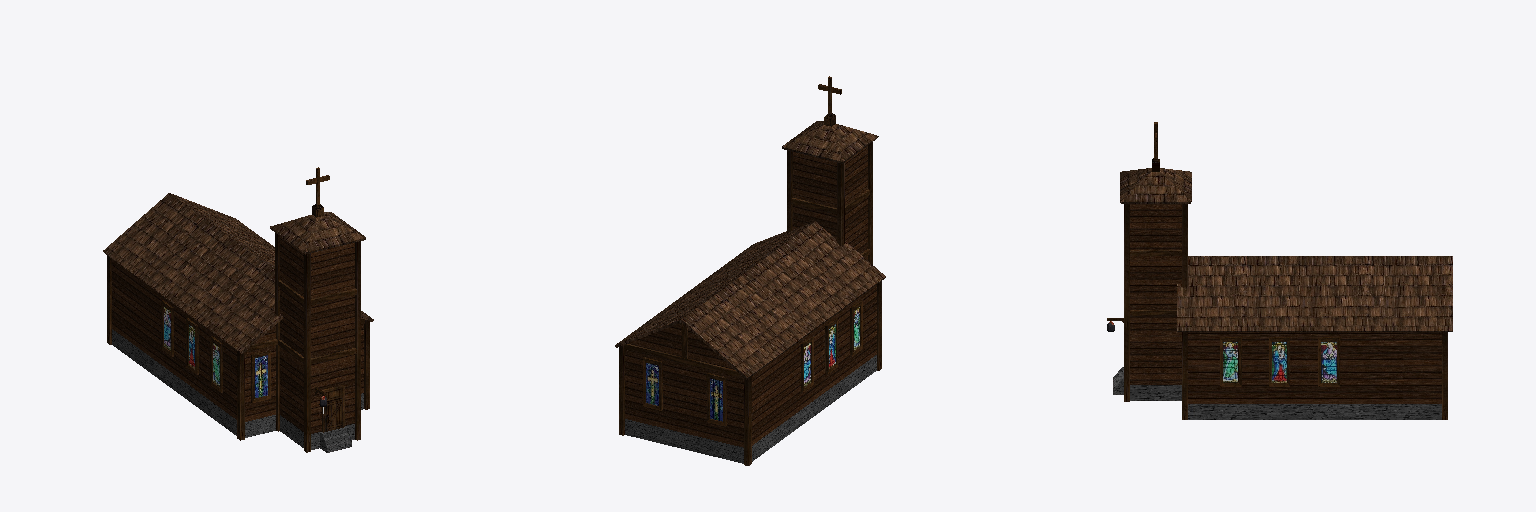
3 renders of one model, left to right at view 1: azimuth 30°, elevation 25°; view 2: azimuth 150°, elevation 25°; view 3: azimuth 270°, elevation 25°, orthographic.
Visible parts, largest first — view 1: church_main, roof_tiles, door_windows, stairs_foundation; view 2: church_main, roof_tiles, door_windows, stairs_foundation; view 3: church_main, roof_tiles, stairs_foundation, door_windows.
Part boxes in pixels (left/top/right/bottom): church_main: left=107, top=167, right=369, bottom=452; roof_tiles: left=103, top=193, right=373, bottom=353; door_windows: left=161, top=300, right=344, bottom=432; stairs_foundation: left=112, top=329, right=363, bottom=452; church_main: left=619, top=76, right=881, bottom=465; roof_tiles: left=615, top=121, right=885, bottom=379; door_windows: left=643, top=300, right=862, bottom=426; stairs_foundation: left=625, top=355, right=876, bottom=463; church_main: left=1107, top=122, right=1447, bottom=419; roof_tiles: left=1120, top=168, right=1452, bottom=331; stairs_foundation: left=1113, top=367, right=1441, bottom=419; door_windows: left=1220, top=337, right=1339, bottom=386.
Bounding box in the file's own units: 53.09 × 102 × 120.
Materials: 2 (1 with a texture image).